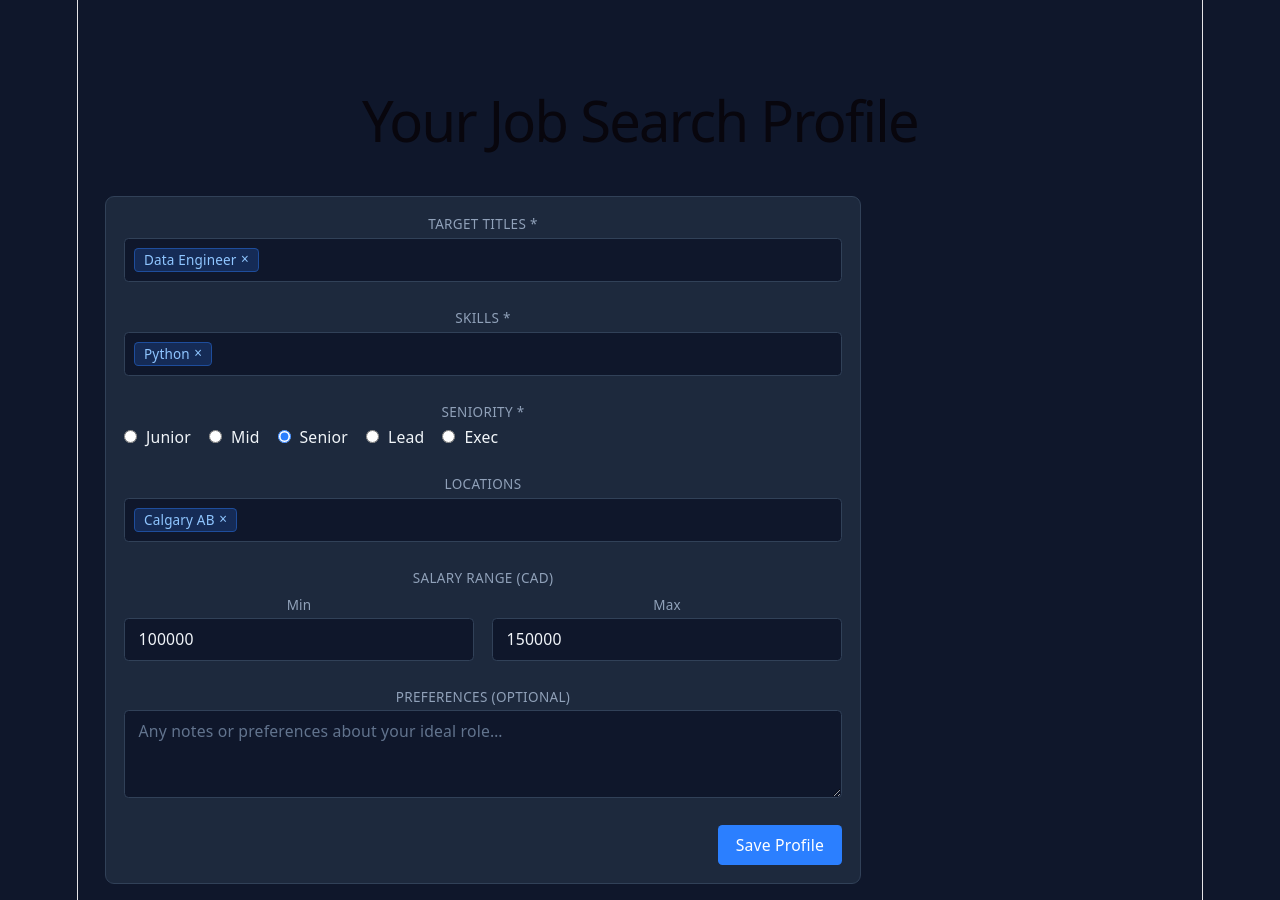
Test: ProfileForm › shows validation error when salary_min >= salary_max
Replace the text in the number field labelled "Min" with "200000" at (299, 640), box [124,618,474,661]
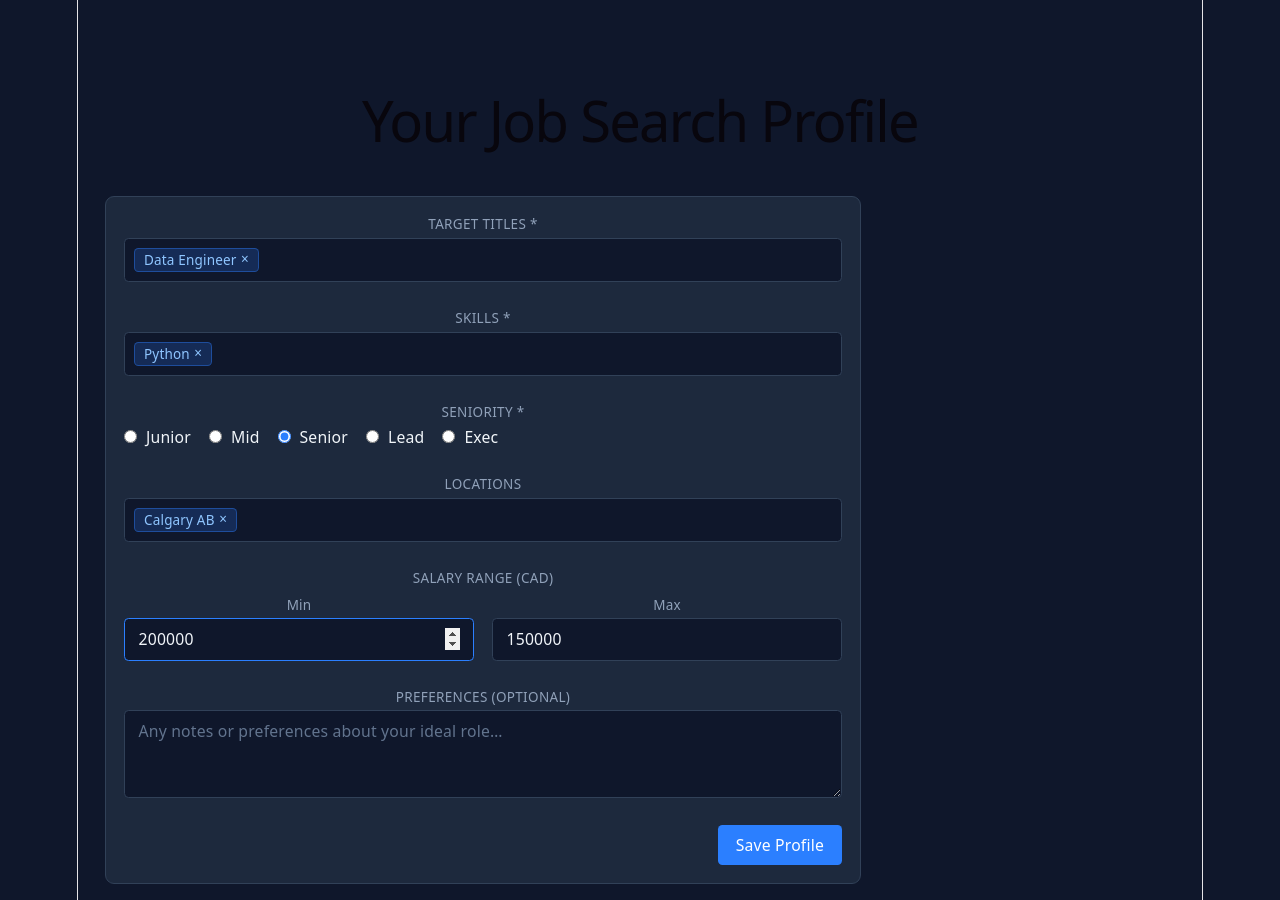
Replace the text in the number field labelled "Max" with "100000" at (667, 640), box [492,618,842,661]
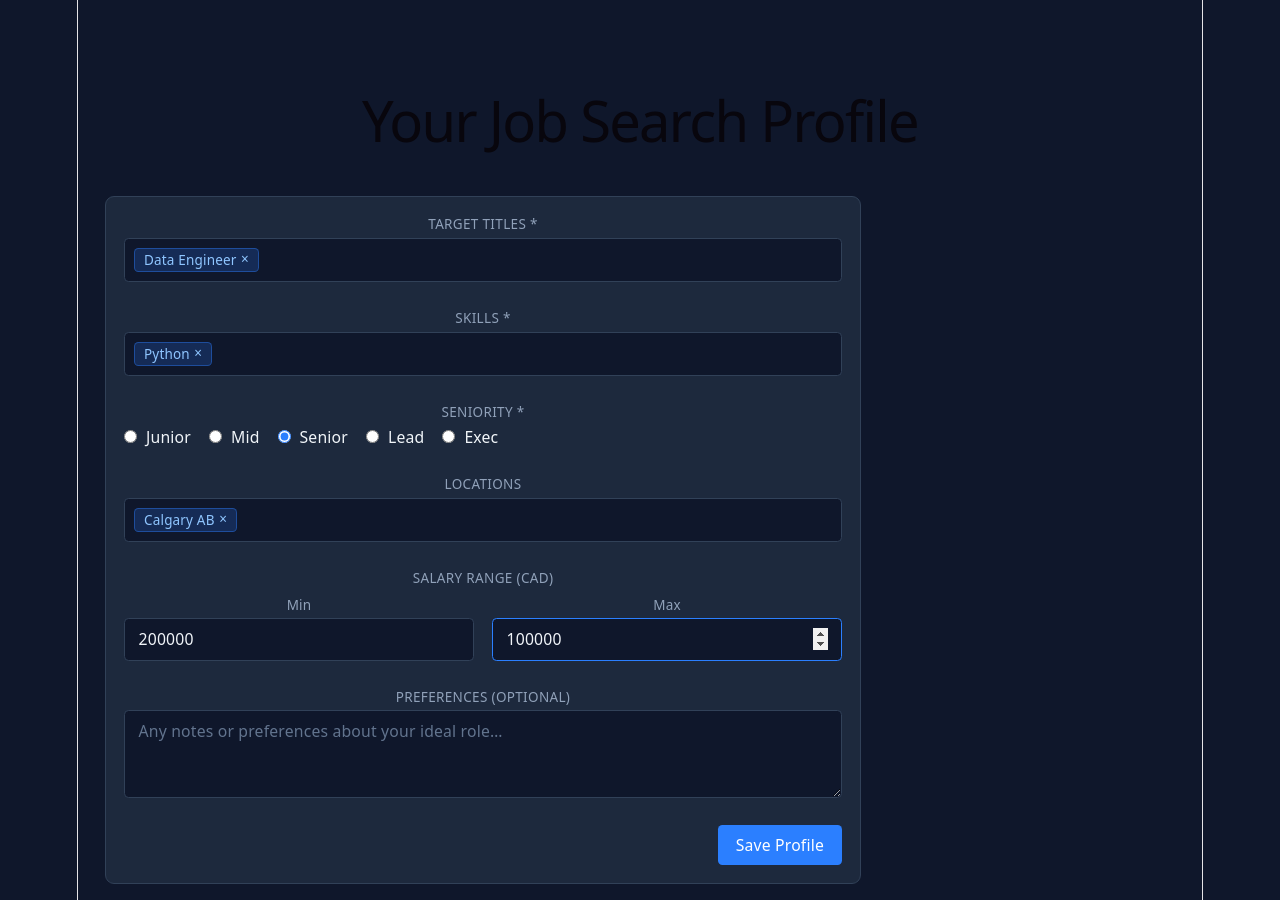
Click the button "Save Profile" at (780, 845), box [718,825,842,866]
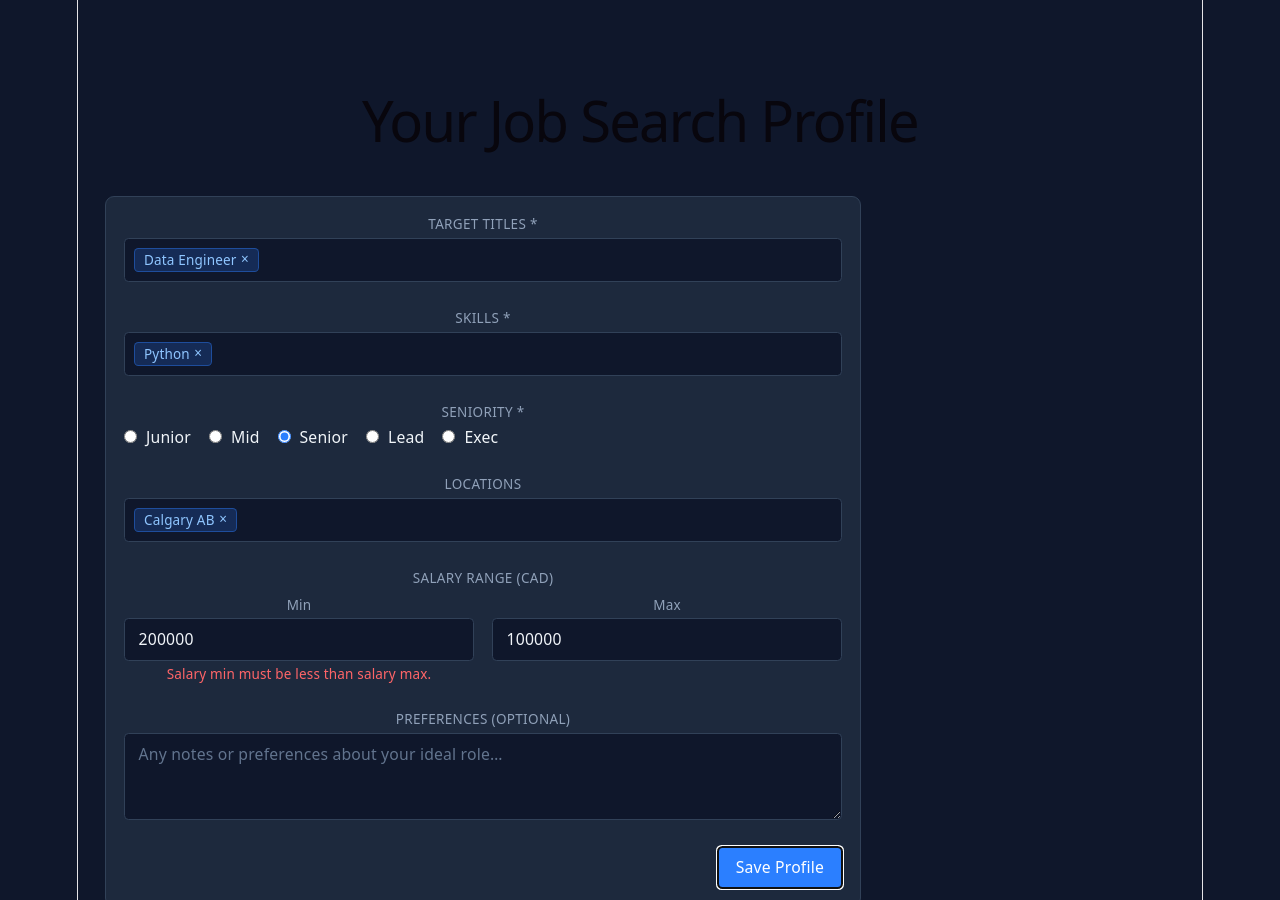
Check: the text "Salary min must be less than salary max." is shown, box [167,666,431,684]
